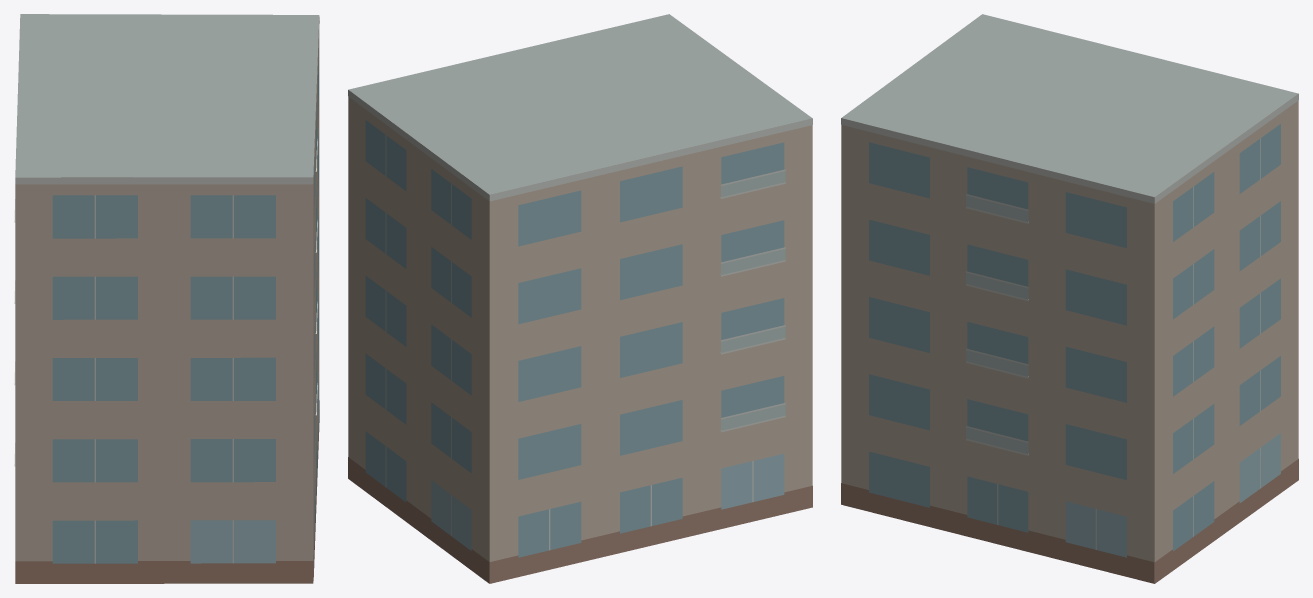
File: survey-upis-32873525.glb
The picture shows the model from 3 angles, left to right: view 1: azimuth 30°, elevation 25°; view 2: azimuth 150°, elevation 25°; view 3: azimuth 270°, elevation 25°; orthographic projection. The views are drawn at different scales.
Visible parts, largest first — view 1: survey-upis-32873525.tmp; view 2: survey-upis-32873525.tmp; view 3: survey-upis-32873525.tmp.
Part boxes in pixels (x1,y1,x2,y2): survey-upis-32873525.tmp: (14, 14, 319, 583); survey-upis-32873525.tmp: (348, 14, 812, 583); survey-upis-32873525.tmp: (841, 14, 1298, 583).
Size of the model in its own units: 14.44 by 14.2 by 15.24.
